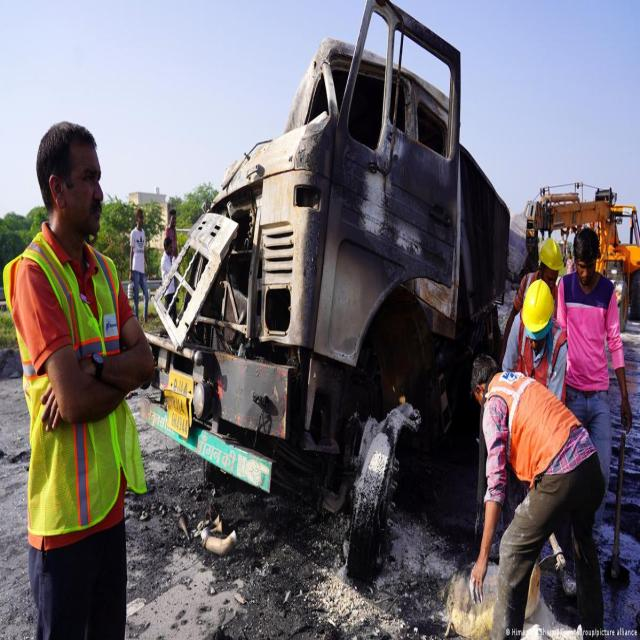accident: (140, 0, 510, 579)
